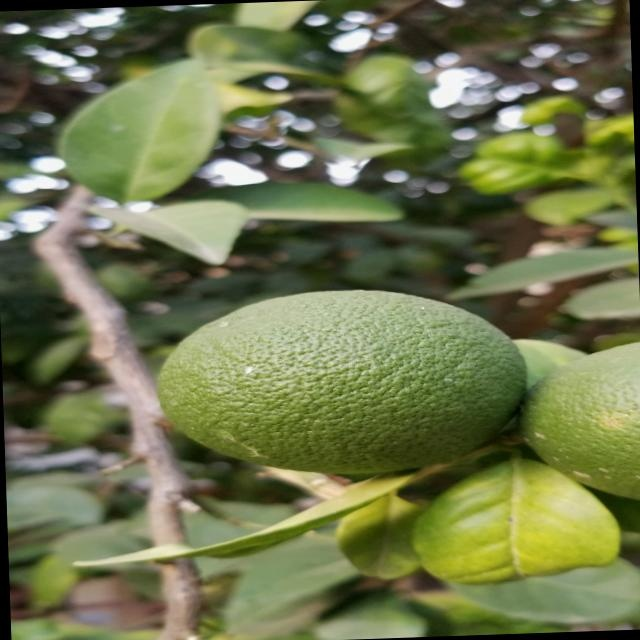agrume: (143, 275, 525, 485), (517, 335, 640, 512)
